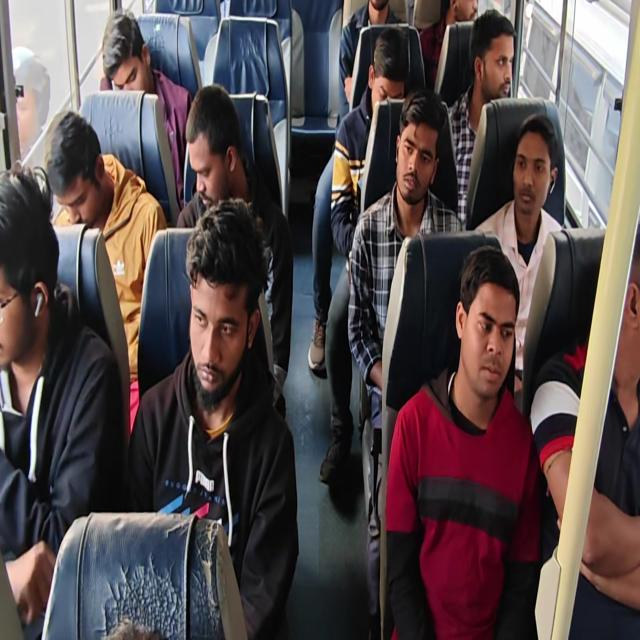person: (0, 169, 62, 392), (443, 258, 517, 403), (185, 231, 243, 407), (43, 112, 113, 228), (600, 195, 640, 390), (188, 80, 243, 210), (102, 15, 160, 104), (391, 120, 435, 210), (513, 130, 555, 216), (477, 29, 523, 106), (374, 45, 402, 108), (442, 0, 480, 29), (361, 0, 393, 22)
